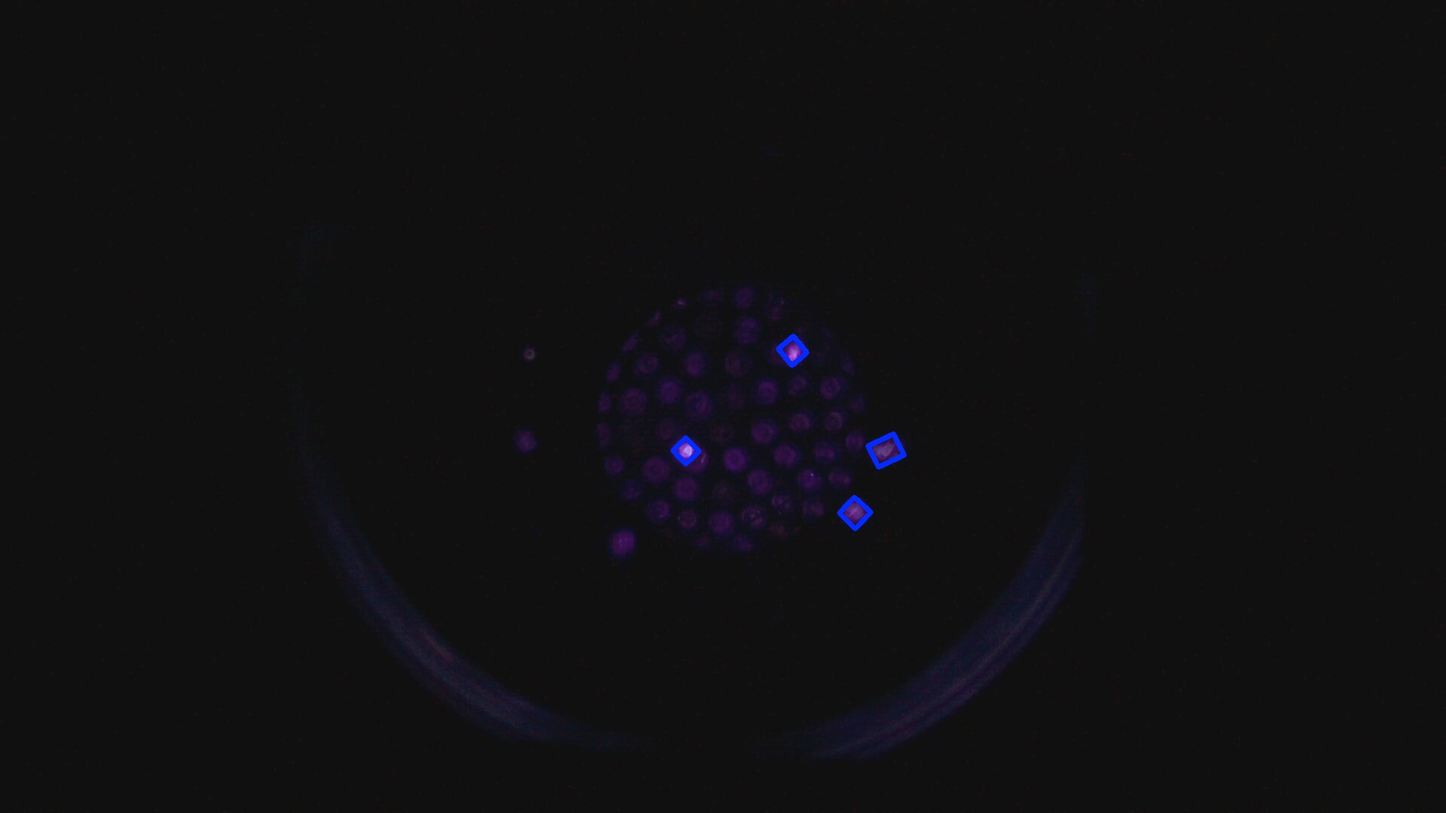plastic: (832, 490, 877, 535), (863, 429, 909, 472), (667, 432, 705, 470), (773, 332, 811, 370)
